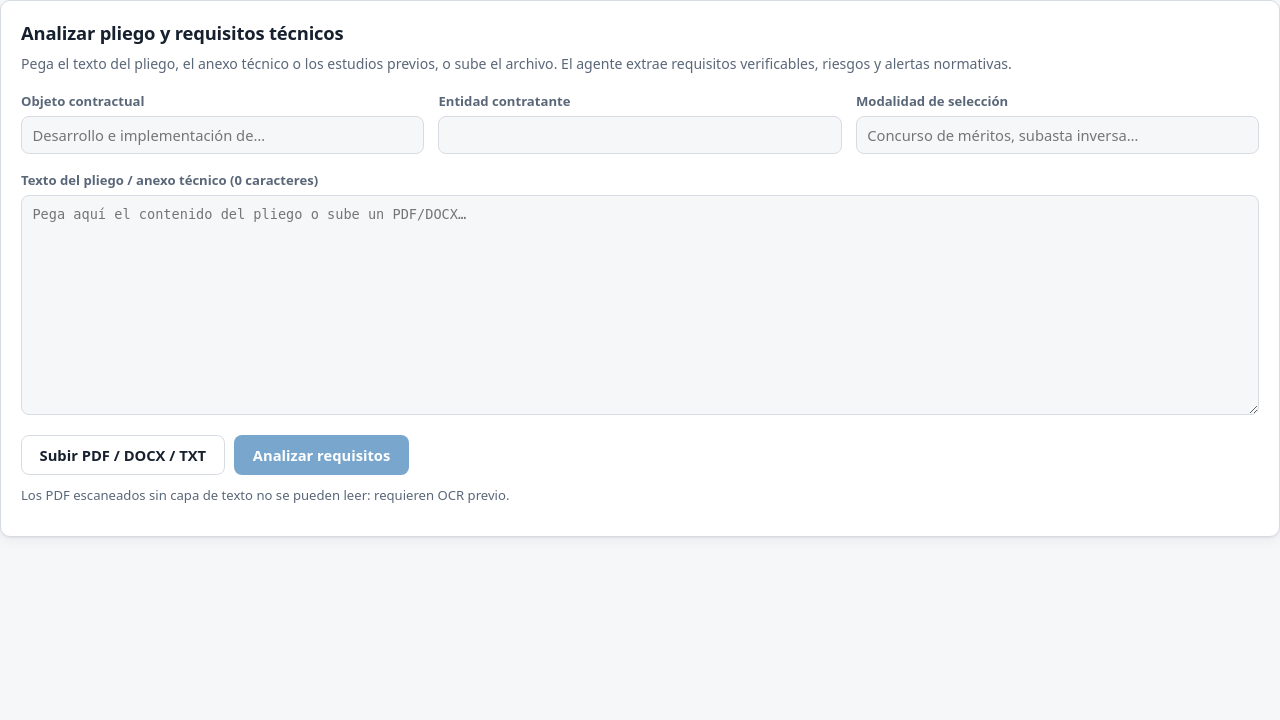
it: cancelación de operaciones largas › ofrece cancelar mientras el análisis está en curso, y no antes
expect the button "Cancelar" is not shown: met
In the text box labelled "Texto del pliego / anexo técnico (0 caracteres)": point(640, 305) top-left (21, 195), bottom-right (1259, 415), type "El contratista debe desarrollar el portal ciudadano bajo microservicios."
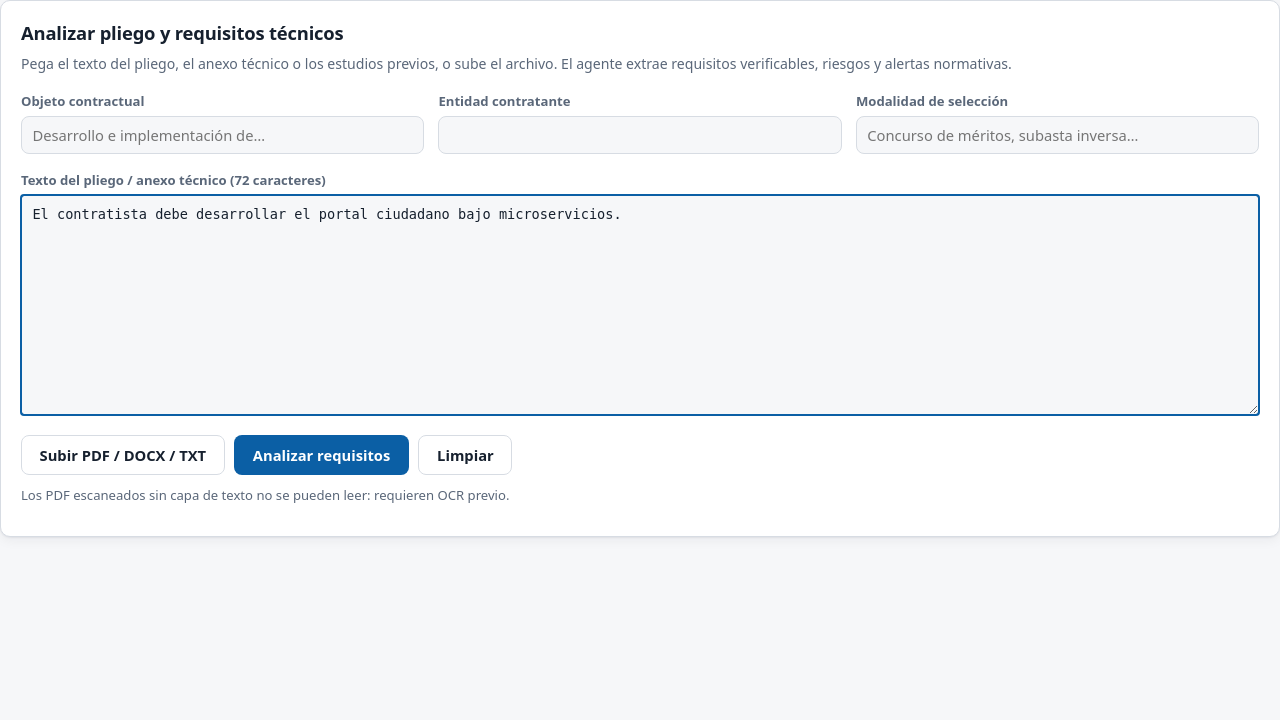
Click the button "Analizar requisitos": point(322, 455) top-left (234, 435), bottom-right (409, 475)
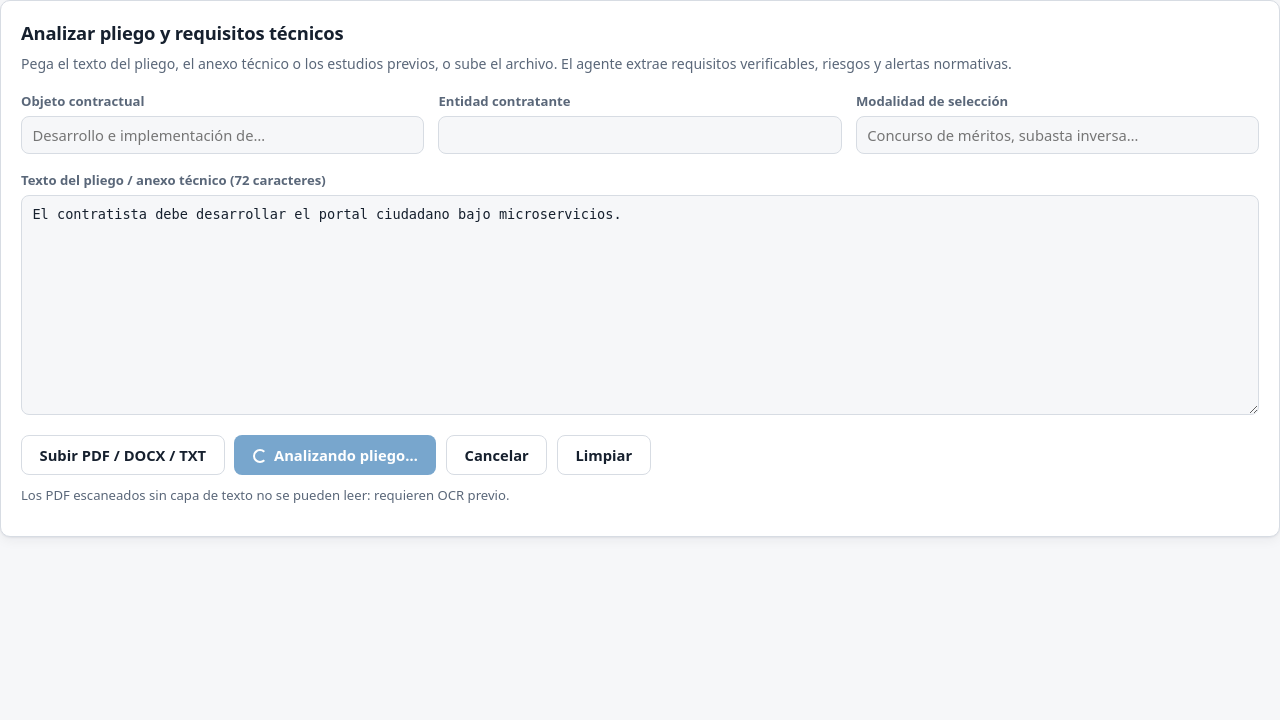
expect the button "Cancelar" is shown: met, box top-left (446, 435), bottom-right (547, 475)
